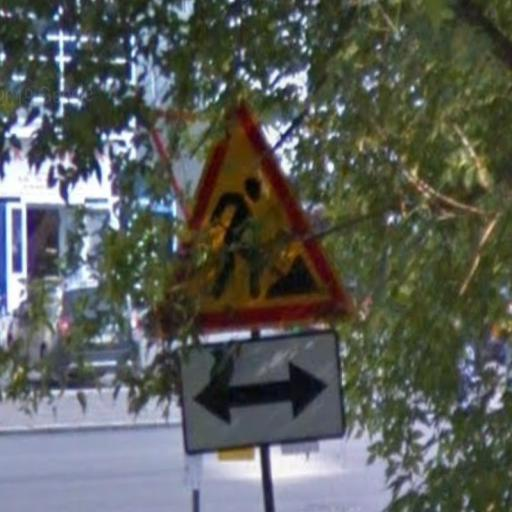traffic_sign: (148, 92, 360, 340)
